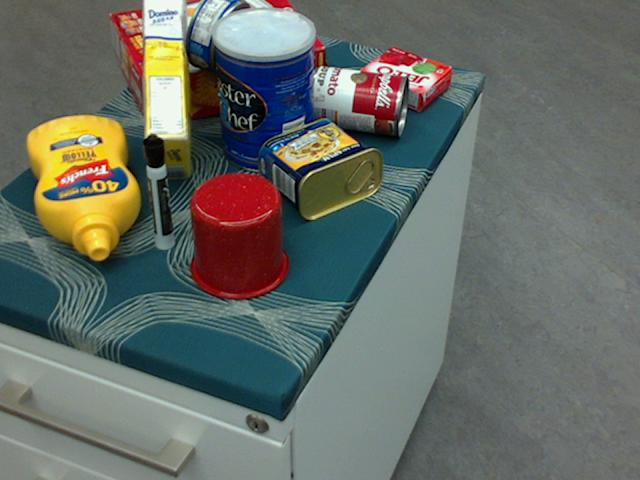cracker_box: (111, 0, 324, 127)
gelatin_box: (358, 48, 451, 110)
large_marker: (140, 134, 174, 248)
master_chef_can: (212, 6, 315, 173)
mug: (188, 170, 289, 298)
mustard_bottle: (26, 116, 138, 259)
potted_meat_can: (257, 115, 383, 221)
sugar_box: (144, 0, 192, 179)
tomato_soup_can: (308, 64, 410, 136)
tuna_fish_can: (184, 0, 253, 74)
